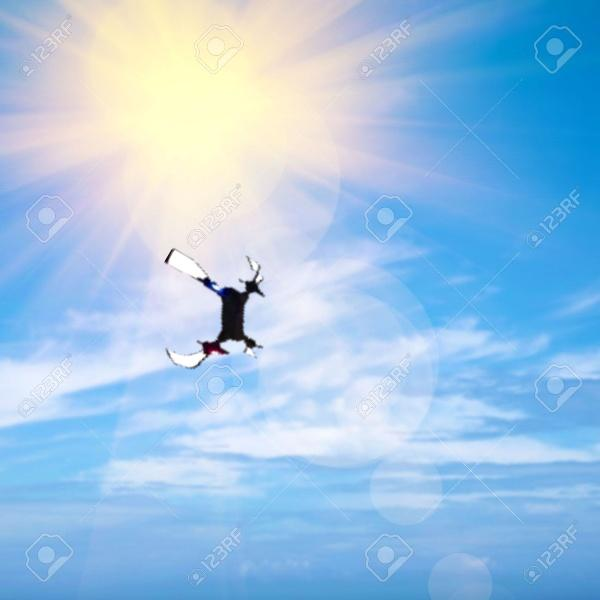drone: (147, 244, 284, 381)
